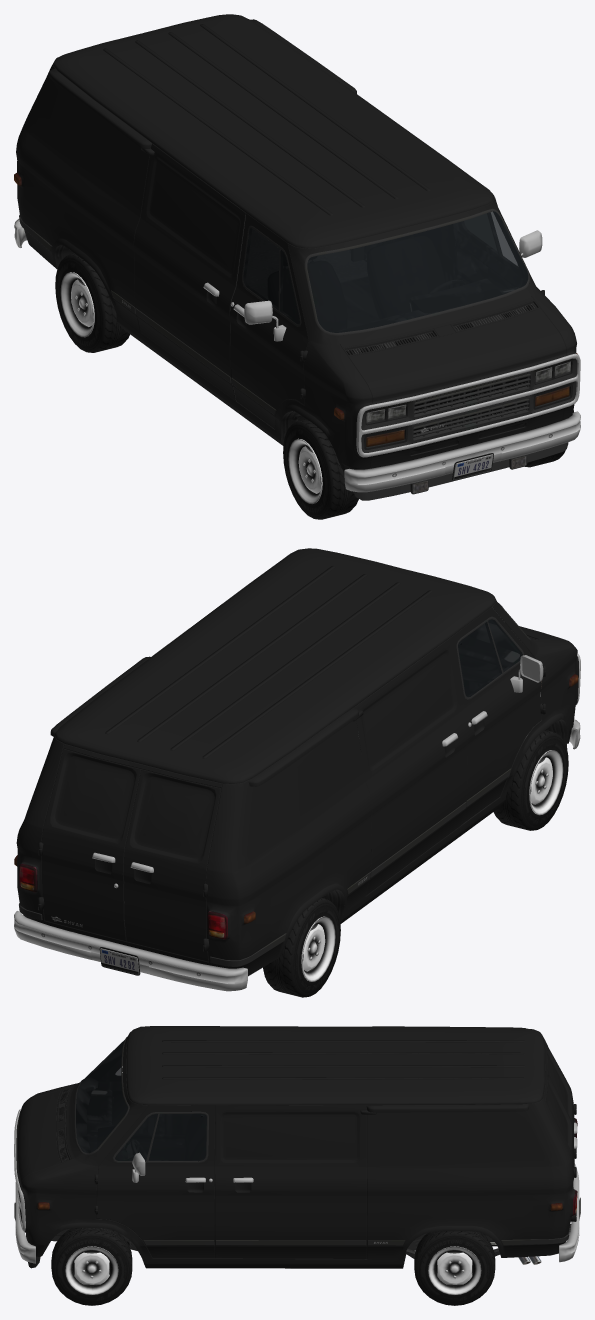
File: shvan.glb
3 views of the same model, one above another, from view 1: azimuth 30°, elevation 25°; view 2: azimuth 150°, elevation 25°; view 3: azimuth 270°, elevation 25° (orthographic). The views are drawn at different scales.
Parts seen in each view (by area): view 1: Shvan92_Body_Shvan92_bodymat_0, Shvan92_Bottom_UCB_BOTTOM_0, Shvan92_Interior_UCB_Interiors_1_0, Shvan92_Windshield_UCB_Lights_and_Glass_Transperent_0, Shvan92_Hood_Shvan92_bodymat_0, Shvan92_Bumper_front_UCB_BOTTOM_0, wheel_FR, wheel_RL, Shvan92_Glass_Passanger_UCB_Lights_and_Glass_Transperent_0, Shvan92_Headlights_Glass_UCB_Lights_and_Glass_Transperent_0, Shvan92_Body_glass_UCB_Lights_and_Glass_Transperent_0, Shvan92_Blinkers_UCB_Lights_and_Glass_0 (+2 smaller); view 2: Shvan92_Body_Shvan92_bodymat_0, Shvan92_Bumper_rear_UCB_BOTTOM_0, Shvan92_Bottom_UCB_BOTTOM_0, wheel_RL, wheel_FR, Shvan92_Interior_UCB_Interiors_1_0, Shvan92_Glass_Passanger_UCB_Lights_and_Glass_Transperent_0, Shvan92_Body_glass_UCB_Lights_and_Glass_Transperent_0, Shvan92_Numberplate_rear_Numberplates_Misk_U_0; view 3: Shvan92_Body_Shvan92_bodymat_0, Shvan92_Interior_UCB_Interiors_1_0, Shvan92_Bottom_UCB_BOTTOM_0, wheel_FL, wheel_RL, Shvan92_Windshield_UCB_Lights_and_Glass_Transperent_0, Shvan92_Hood_Shvan92_bodymat_0, Shvan92_Glass_Driver_UCB_Lights_and_Glass_Transperent_0, Shvan92_Body_glass_UCB_Lights_and_Glass_Transperent_0, Shvan92_Bumper_rear_UCB_BOTTOM_0, Shvan92_Bumper_front_UCB_BOTTOM_0.
Part boxes in pixels (<box>): Shvan92_Body_Shvan92_bodymat_0: <box>16,14,576,472</box>; Shvan92_Bottom_UCB_BOTTOM_0: <box>14,172,580,500</box>; Shvan92_Interior_UCB_Interiors_1_0: <box>229,212,527,404</box>; Shvan92_Windshield_UCB_Lights_and_Glass_Transperent_0: <box>307,211,528,332</box>; Shvan92_Hood_Shvan92_bodymat_0: <box>348,308,567,404</box>; Shvan92_Bumper_front_UCB_BOTTOM_0: <box>344,411,580,492</box>; wheel_FR: <box>283,419,358,519</box>; wheel_RL: <box>55,253,129,352</box>; Shvan92_Glass_Passanger_UCB_Lights_and_Glass_Transperent_0: <box>243,228,279,310</box>; Shvan92_Headlights_Glass_UCB_Lights_and_Glass_Transperent_0: <box>366,361,570,446</box>; Shvan92_Body_glass_UCB_Lights_and_Glass_Transperent_0: <box>280,249,299,324</box>; Shvan92_Blinkers_UCB_Lights_and_Glass_0: <box>366,387,569,446</box>; Shvan92_Body_Shvan92_bodymat_0: <box>16,548,578,976</box>; Shvan92_Bumper_rear_UCB_BOTTOM_0: <box>14,911,247,991</box>; Shvan92_Bottom_UCB_BOTTOM_0: <box>14,603,580,966</box>; wheel_RL: <box>263,898,340,997</box>; wheel_FR: <box>493,730,568,830</box>; Shvan92_Interior_UCB_Interiors_1_0: <box>124,620,531,920</box>; Shvan92_Glass_Passanger_UCB_Lights_and_Glass_Transperent_0: <box>458,622,502,697</box>; Shvan92_Body_glass_UCB_Lights_and_Glass_Transperent_0: <box>488,619,522,671</box>; Shvan92_Numberplate_rear_Numberplates_Misk_U_0: <box>100,948,139,975</box>; Shvan92_Body_Shvan92_bodymat_0: <box>20,1026,576,1268</box>; Shvan92_Interior_UCB_Interiors_1_0: <box>76,1043,206,1161</box>; Shvan92_Bottom_UCB_BOTTOM_0: <box>14,1036,577,1268</box>; wheel_FL: <box>51,1227,132,1305</box>; wheel_RL: <box>414,1231,495,1305</box>; Shvan92_Windshield_UCB_Lights_and_Glass_Transperent_0: <box>76,1040,127,1153</box>; Shvan92_Hood_Shvan92_bodymat_0: <box>16,1089,61,1186</box>; Shvan92_Glass_Driver_UCB_Lights_and_Glass_Transperent_0: <box>148,1113,206,1160</box>; Shvan92_Body_glass_UCB_Lights_and_Glass_Transperent_0: <box>115,1114,157,1160</box>; Shvan92_Bumper_rear_UCB_BOTTOM_0: <box>559,1163,580,1262</box>; Shvan92_Bumper_front_UCB_BOTTOM_0: <box>14,1182,35,1263</box>.
Size of the model in its own units: 2.35 by 1.93 by 4.9.
Materials: 8 (7 with a texture image).
